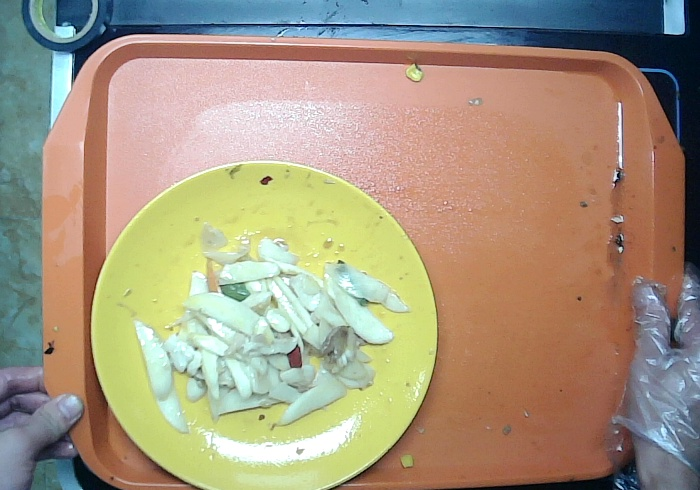HZYJPL-Huang_Se_Yuan_Pan: (83, 152, 442, 490)
